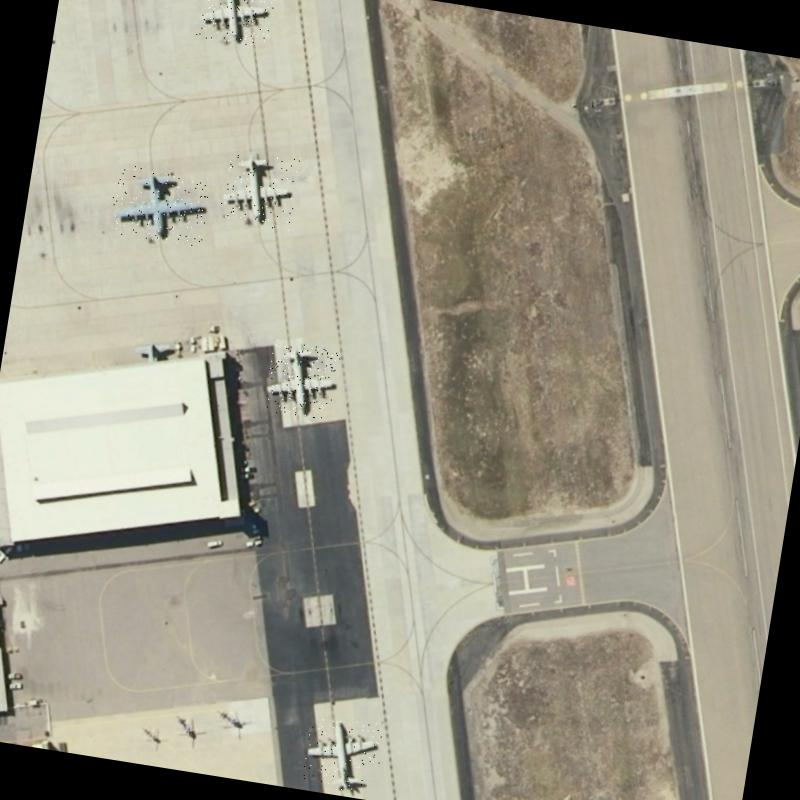A2: (106, 163, 212, 247)
A9: (218, 146, 302, 231), (301, 713, 385, 795), (262, 338, 342, 422), (195, 0, 277, 47)
